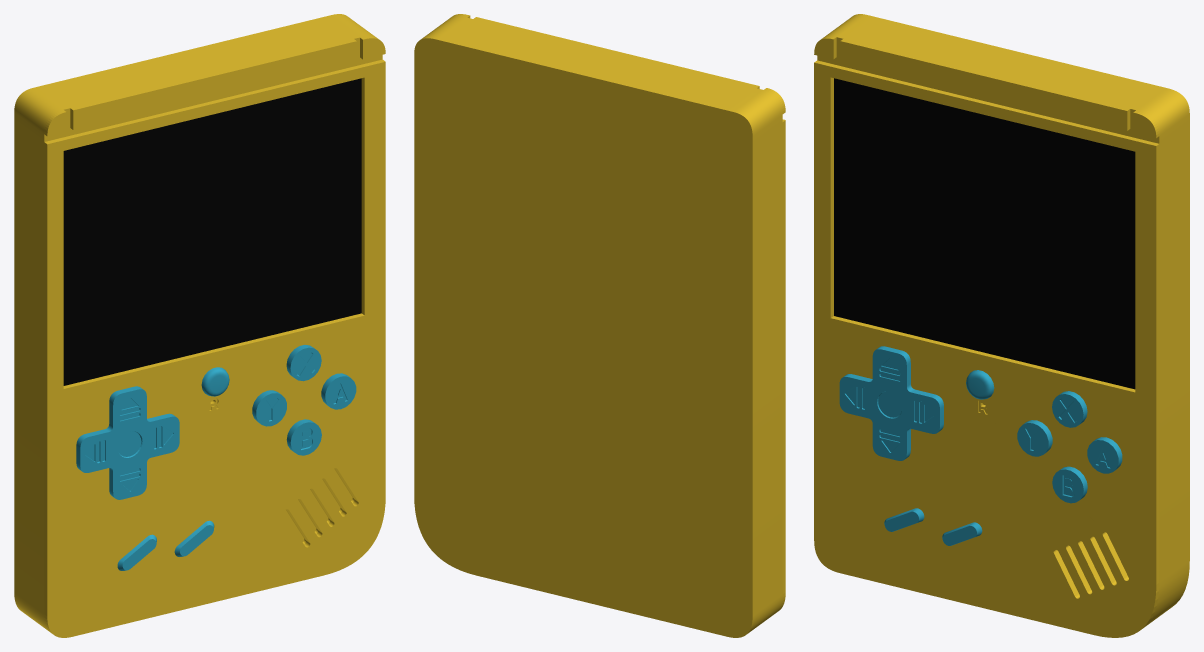
Rendered from 게임기.FBX.
3 views of the same model, side by side, from view 1: azimuth 30°, elevation 25°; view 2: azimuth 150°, elevation 25°; view 3: azimuth 330°, elevation 25° (orthographic).
Visible parts, largest first — view 1: Box001, Box002, Cylinder011, Cylinder012, Cylinder013, Cylinder009, Cylinder001, Cylinder007, Cylinder008; view 2: Box001; view 3: Box001, Box002, Cylinder012, Cylinder011, Cylinder009, Cylinder013, Cylinder001, Cylinder007, Cylinder008.
Boxes of the visible parts, <box> form: Box001: <box>14,14,385,637</box>; Box002: <box>76,386,179,499</box>; Cylinder011: <box>321,373,356,409</box>; Cylinder012: <box>252,390,286,426</box>; Cylinder013: <box>286,419,321,455</box>; Cylinder009: <box>286,345,321,381</box>; Cylinder001: <box>201,367,229,396</box>; Cylinder007: <box>117,534,156,570</box>; Cylinder008: <box>174,520,214,556</box>; Box001: <box>414,14,785,637</box>; Box001: <box>814,14,1189,637</box>; Box002: <box>839,346,943,460</box>; Cylinder012: <box>1017,420,1052,456</box>; Cylinder011: <box>1087,437,1122,473</box>; Cylinder009: <box>1052,391,1087,427</box>; Cylinder013: <box>1052,466,1087,503</box>; Cylinder001: <box>966,370,994,399</box>; Cylinder007: <box>884,508,924,531</box>; Cylinder008: <box>942,522,982,545</box>.
Bounding box in the file's own units: 1335 × 1984 × 259.
